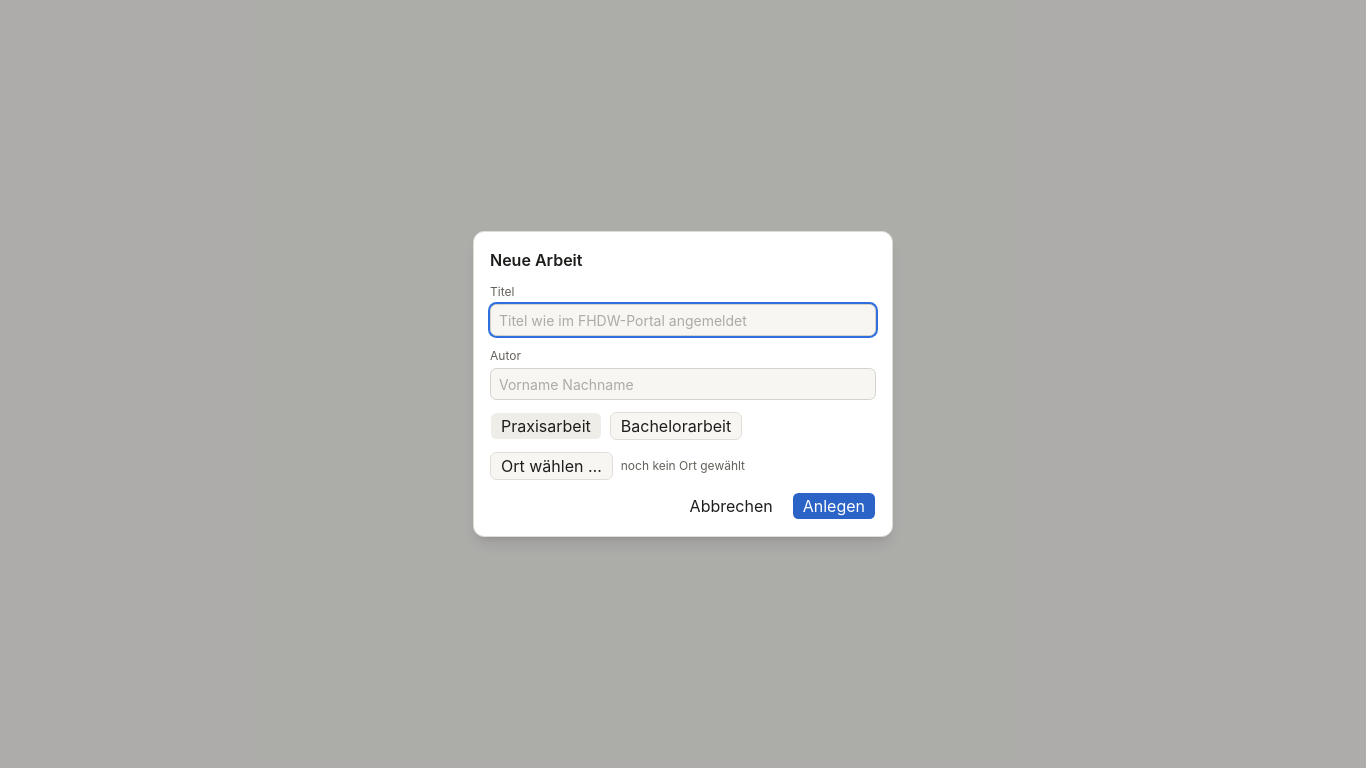
it: NeueArbeitDialog › zeigt Fehler des Anlegens im Dialog
Step 1. Type "T" into the field with placeholder "Titel wie im FHDW-Portal angemeldet" → (683, 320), box [490,304,876,336]
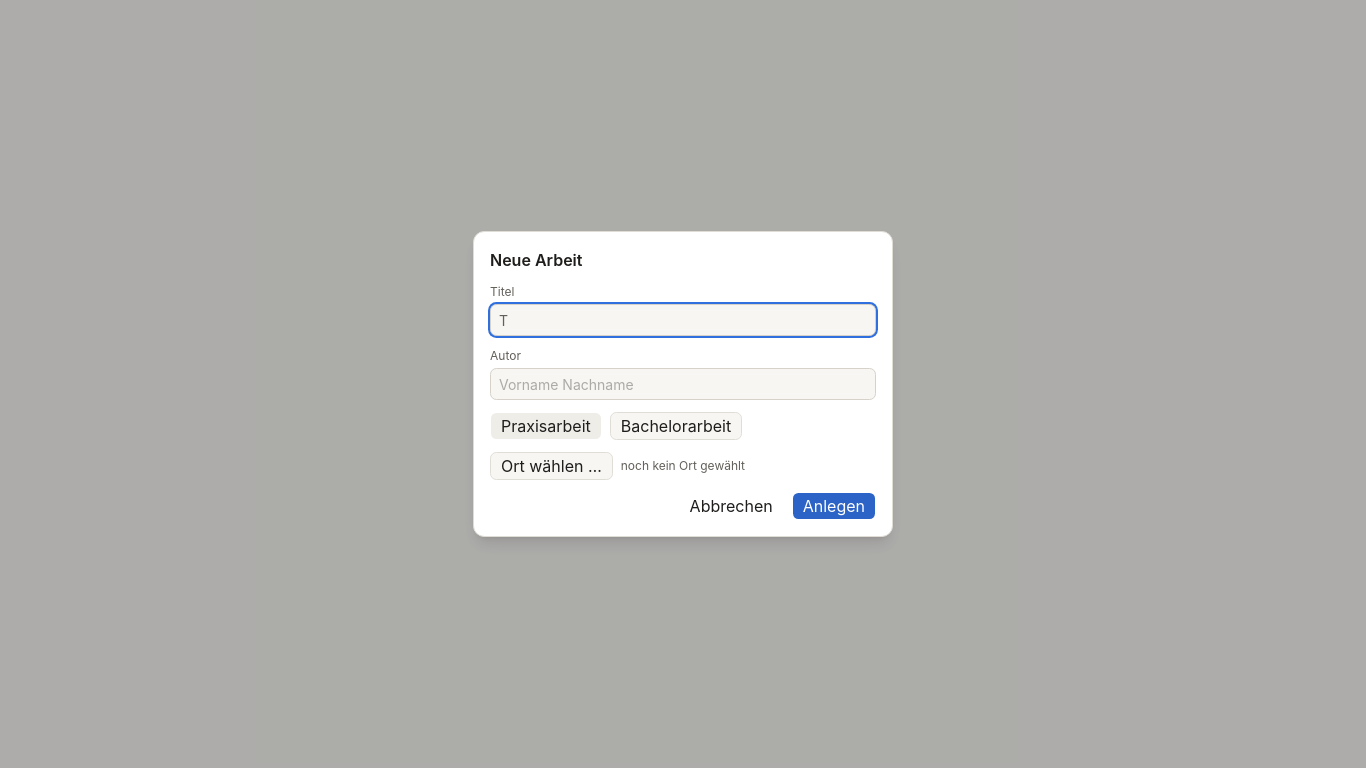
Step 2. Click the button "Ort wählen …" → (551, 466), box [490,452,613,480]
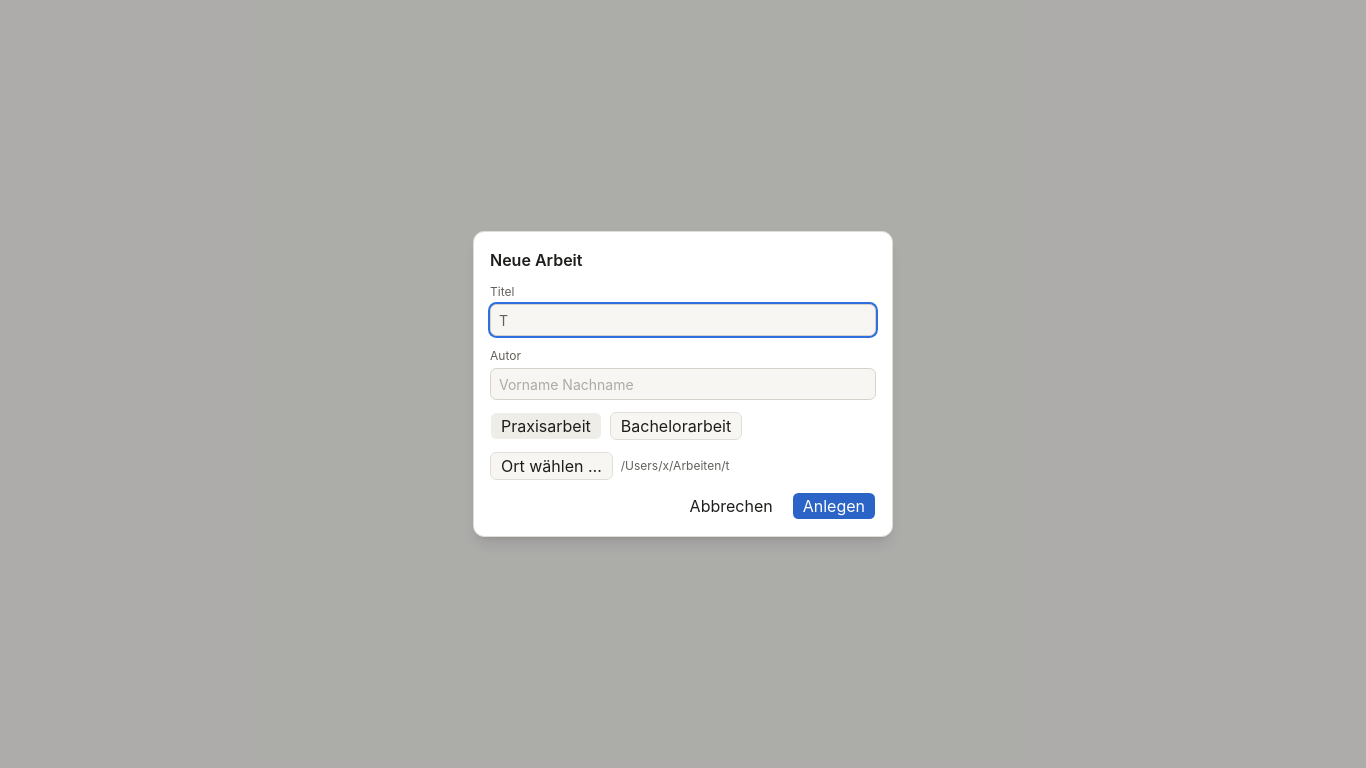
Check: the text "/Users/x/Arbeiten/t" is shown, box [621,458,730,473]
Step 3. Click the button "Anlegen" → (834, 506), box [792,492,876,520]
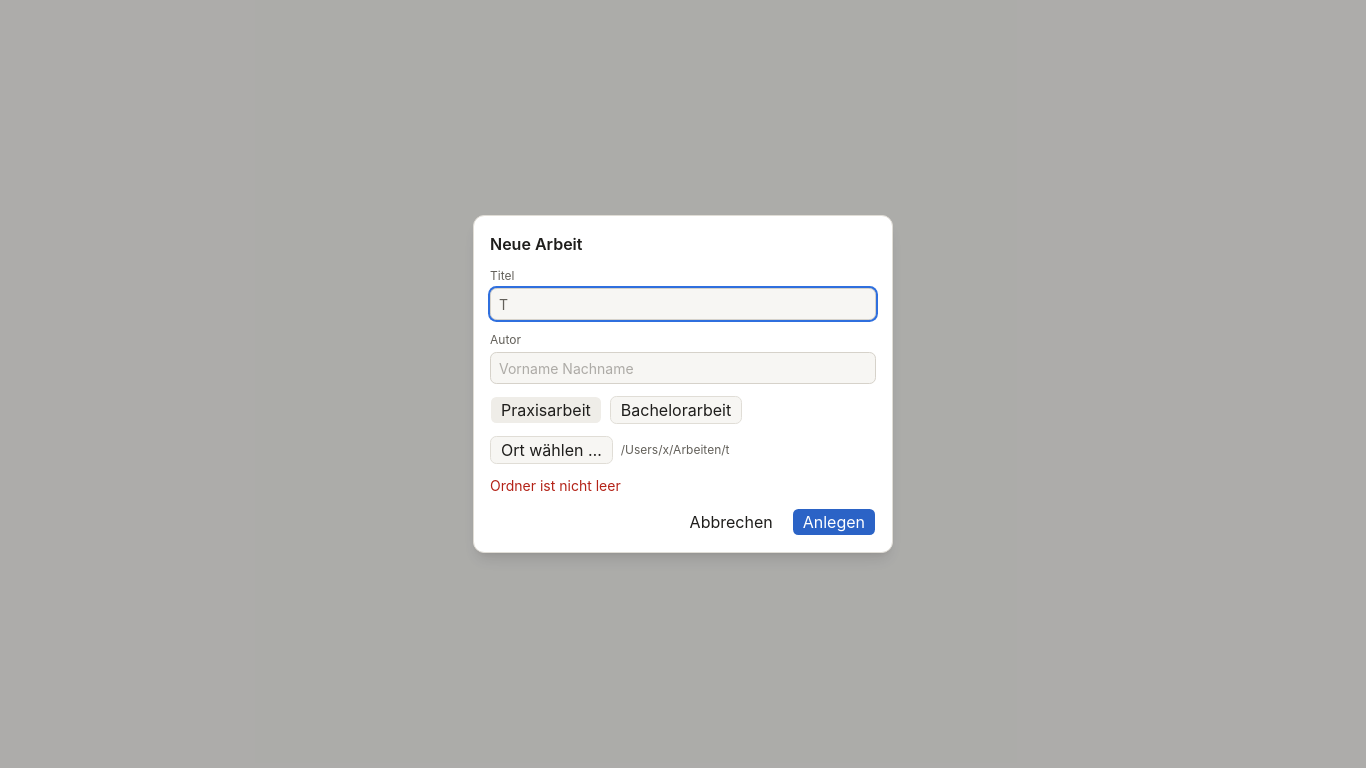
Check: the message shows "nicht leer", box [490,477,621,494]
